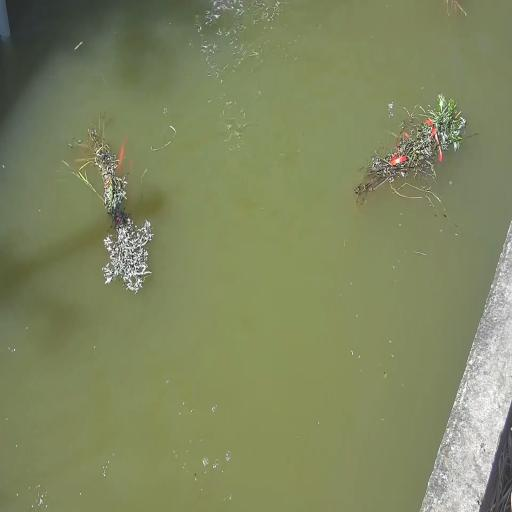twig: (64, 114, 155, 291), (353, 93, 470, 216)
